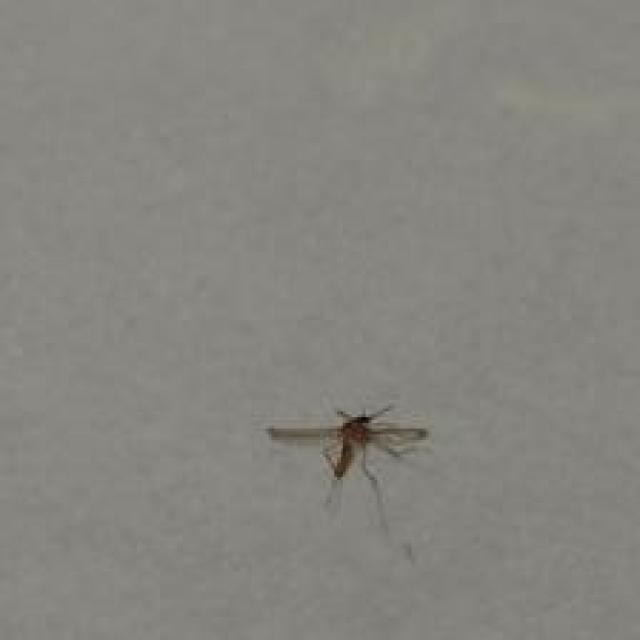Culex: (264, 402, 430, 558)
